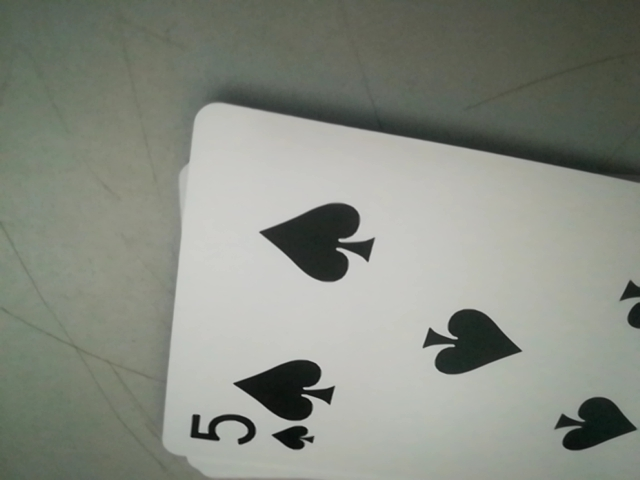ht 5: (181, 412, 329, 462)
